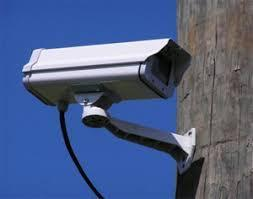tutu: (19, 36, 201, 109)
